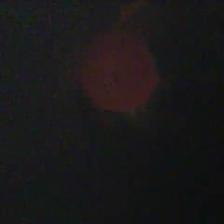fertile: (77, 27, 161, 117)
